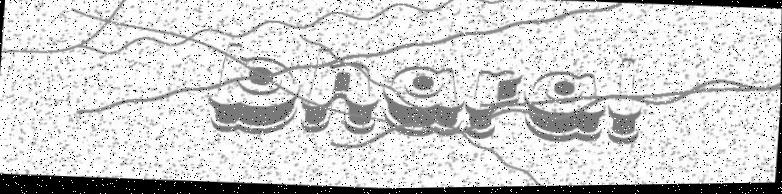a: (378, 64, 467, 140), (520, 70, 607, 147)
b: (203, 41, 303, 139)
h: (298, 46, 382, 138)
l: (605, 58, 644, 148)
r: (463, 68, 523, 144)
